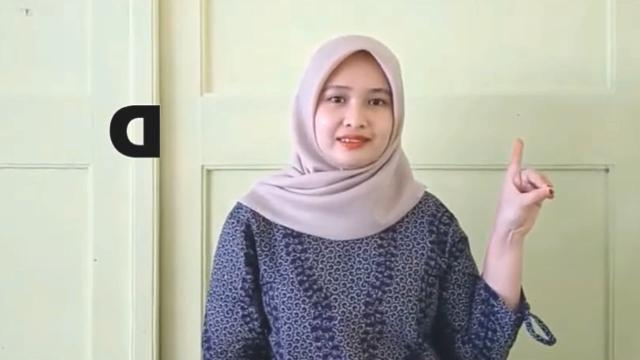D: (495, 136, 557, 232)
